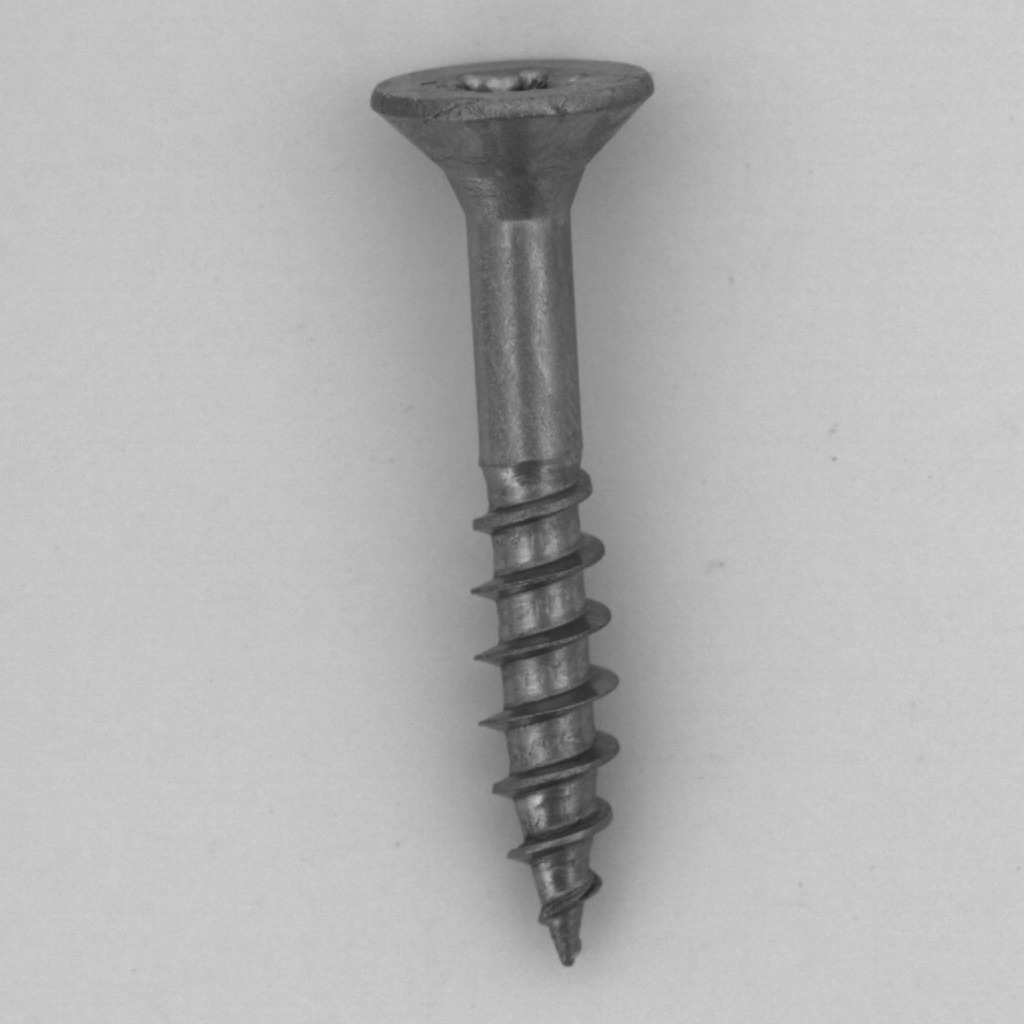good: (351, 41, 690, 983)
